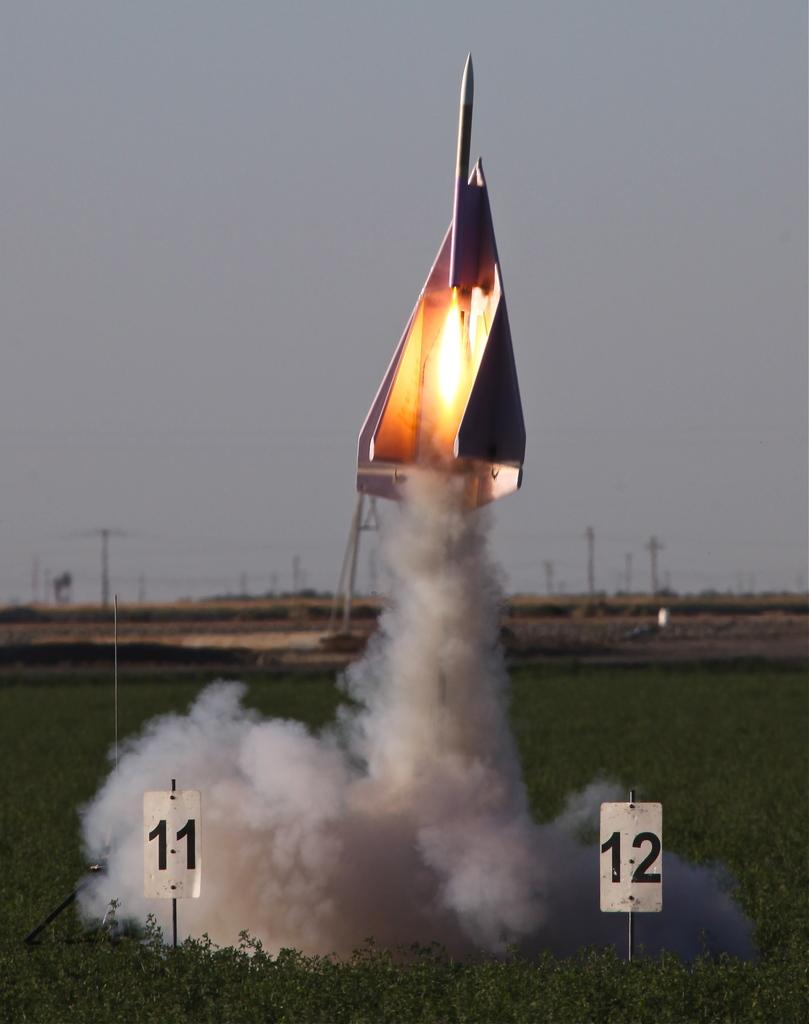Missile: (350, 48, 525, 512), (447, 46, 475, 288)
